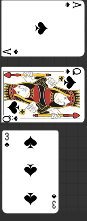3C: (51, 192, 58, 210), (4, 131, 11, 148)
AC: (3, 46, 20, 55)
